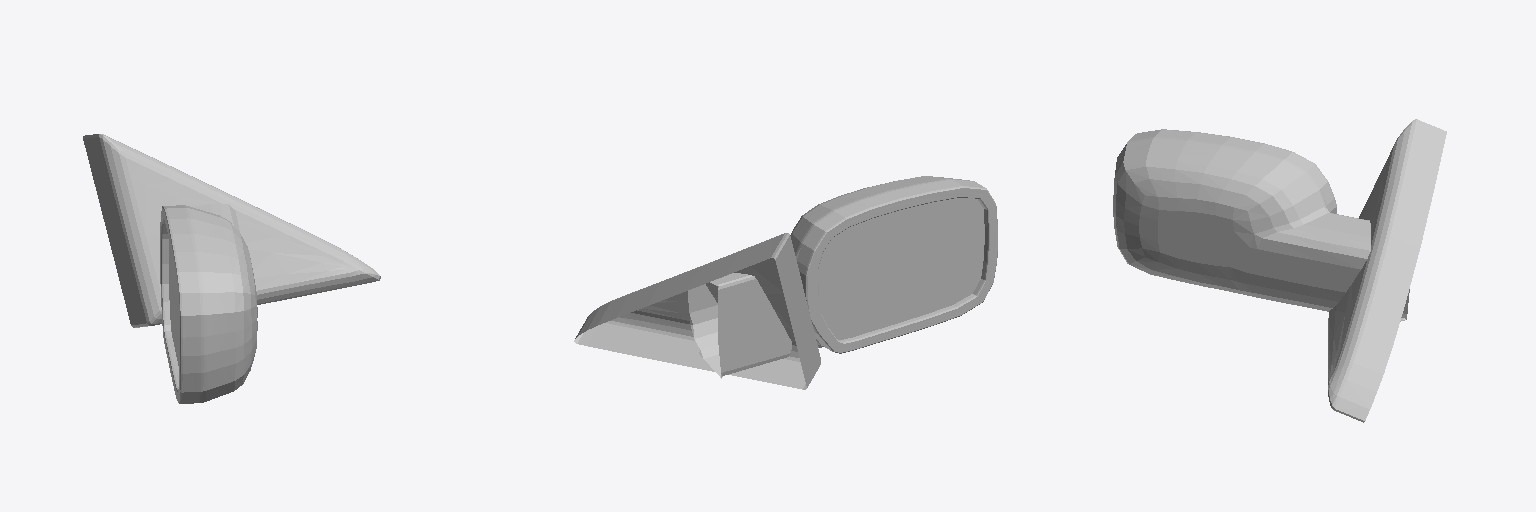
The picture shows the model from 3 angles: view 1: azimuth 30°, elevation 25°; view 2: azimuth 150°, elevation 25°; view 3: azimuth 270°, elevation 25°; orthographic projection.
Parts seen in each view (by area): view 1: Y174_281I_R_1_DaS_Y174_281I_R, Y174_281I_R_1_DaS_Y174_281I_R_E, Y174_281I_R_Y174_281I_R_2_DTaSI; view 2: Y174_281I_R_1_DaS_Y174_281I_R, Y174_281I_R_Y174_281I_R_2_DTaSI, Y174_281I_R_1_DaS_Y174_281I_R_E; view 3: Y174_281I_R_1_DaS_Y174_281I_R, Y174_281I_R_1_DaS_Y174_281I_R_E.
Boxes of the visible parts, <box> form: Y174_281I_R_1_DaS_Y174_281I_R: <box>83,134,257,403</box>; Y174_281I_R_1_DaS_Y174_281I_R_E: <box>99,134,380,325</box>; Y174_281I_R_Y174_281I_R_2_DTaSI: <box>169,242,178,365</box>; Y174_281I_R_1_DaS_Y174_281I_R: <box>574,176,997,389</box>; Y174_281I_R_Y174_281I_R_2_DTaSI: <box>818,198,984,339</box>; Y174_281I_R_1_DaS_Y174_281I_R_E: <box>594,233,820,361</box>; Y174_281I_R_1_DaS_Y174_281I_R: <box>1113,119,1446,422</box>; Y174_281I_R_1_DaS_Y174_281I_R_E: <box>1328,119,1416,409</box>.
Bounding box in the file's own units: 36.61 × 21.49 × 34.62.